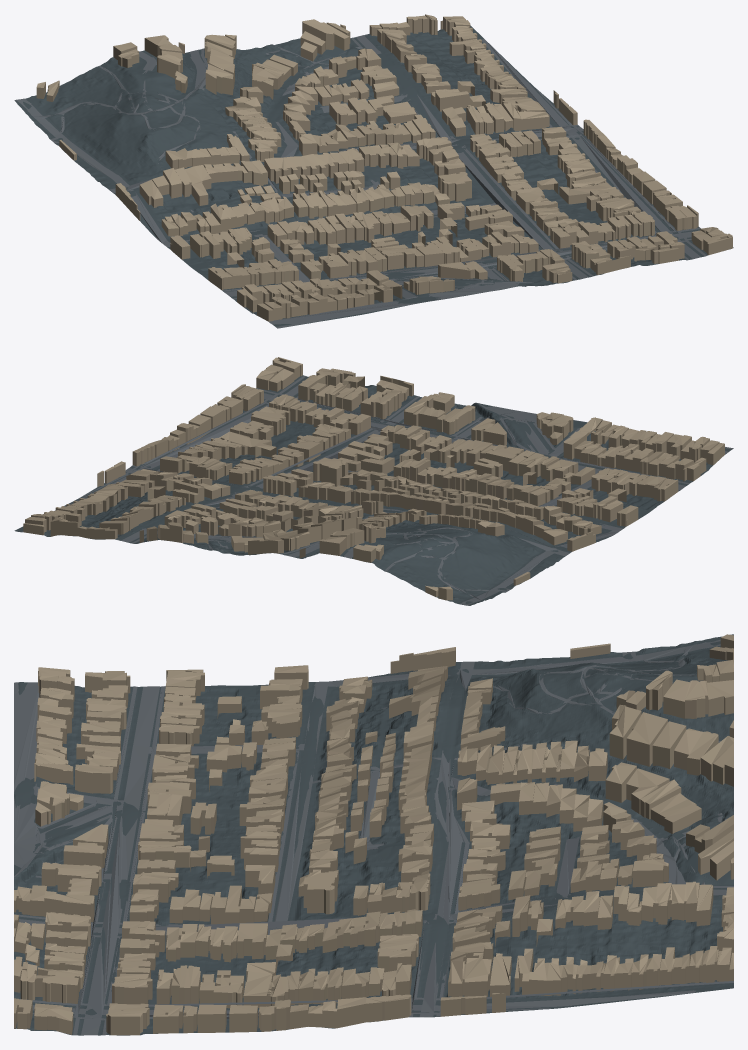
The model's file is epsg26910-1430-10883.lod0.glb.
The picture shows the model from 3 angles, top to bottom: view 1: azimuth 30°, elevation 25°; view 2: azimuth 150°, elevation 25°; view 3: azimuth 270°, elevation 25°; orthographic projection. The views are drawn at different scales.
Parts seen in each view (by area): view 1: epsg26910-1430-10883-lod0; view 2: epsg26910-1430-10883-lod0; view 3: epsg26910-1430-10883-lod0.
Part boxes in pixels (x1,y1,x2,y2): epsg26910-1430-10883-lod0: [14, 14, 733, 328]; epsg26910-1430-10883-lod0: [14, 357, 733, 605]; epsg26910-1430-10883-lod0: [14, 634, 733, 1035].
Bounding box in the file's own units: 384 × 82.58 × 384.
